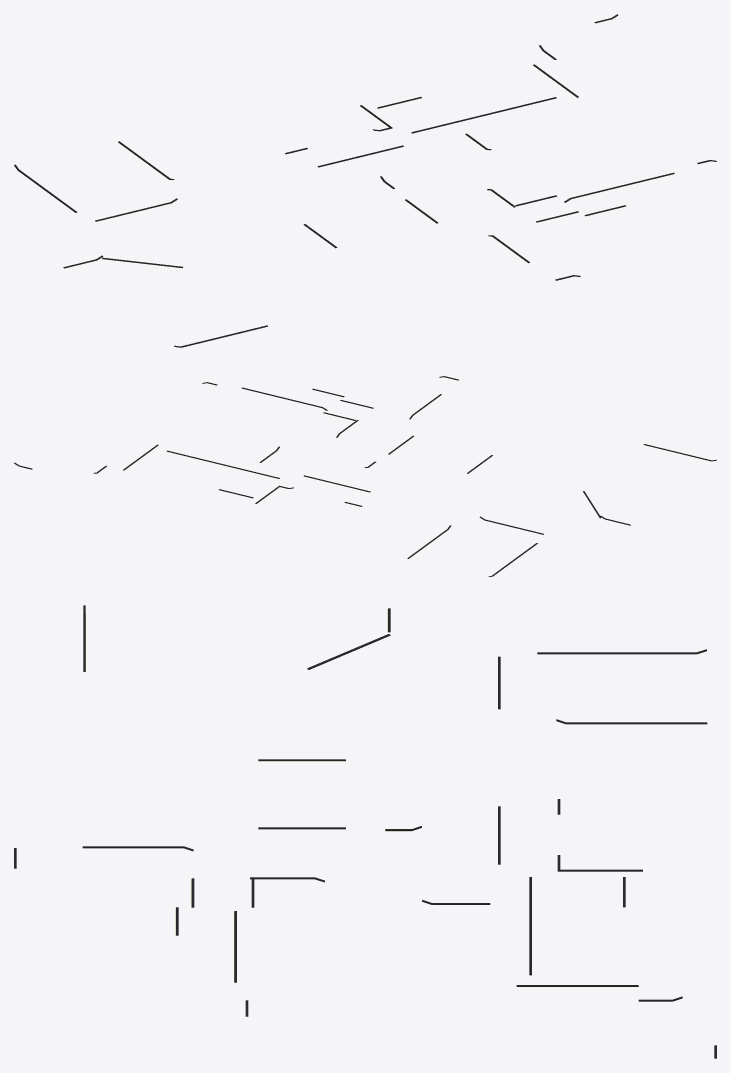
The model's file is Soffits.fbx.
3 renders of one model, top to bottom at view 1: azimuth 30°, elevation 25°; view 2: azimuth 150°, elevation 25°; view 3: azimuth 270°, elevation 25°, orthographic. The views are drawn at different scales.
Parts seen in each view (by area): view 1: Soffits; view 2: Soffits; view 3: Soffits.
Boxes of the visible parts, left/top/right/bottom form: Soffits: left=14, top=14, right=716, bottom=347; Soffits: left=14, top=376, right=716, bottom=576; Soffits: left=14, top=605, right=716, bottom=1058.
Bounding box in the file's own units: 123 × 0.9347 × 80.75.
